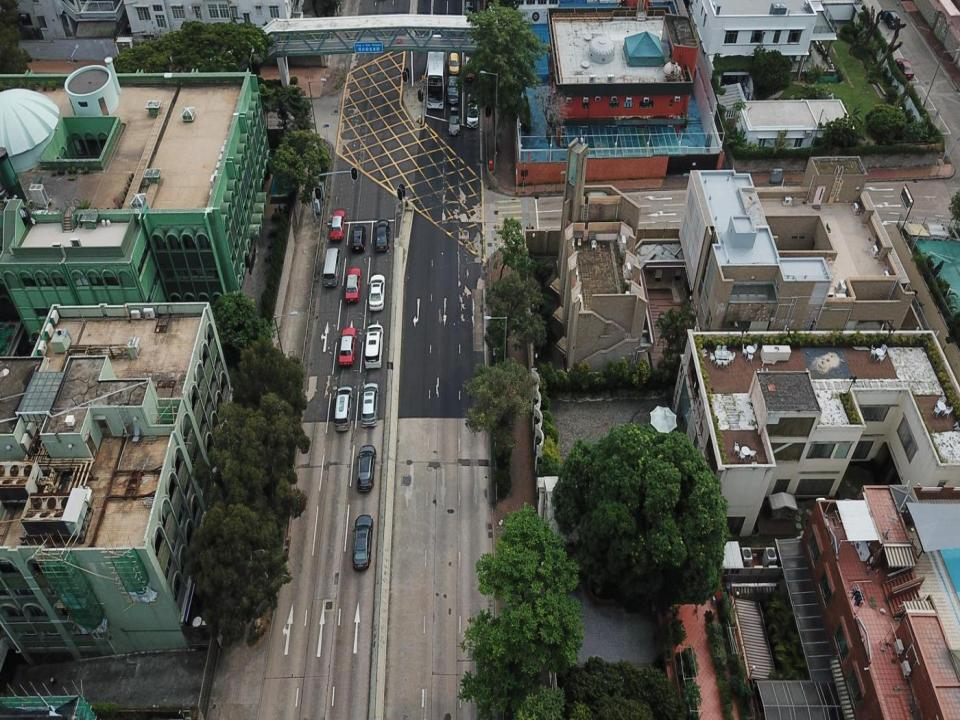bus: (428, 34, 444, 109)
car: (352, 514, 374, 570), (356, 445, 376, 492), (339, 326, 356, 365), (369, 275, 385, 311), (346, 268, 362, 301), (375, 220, 390, 252), (894, 58, 914, 82), (330, 210, 345, 240), (351, 224, 366, 251), (448, 107, 461, 134), (466, 102, 479, 127), (447, 77, 459, 104), (448, 52, 460, 76), (465, 56, 476, 80)
van: (334, 386, 353, 430), (360, 382, 378, 428), (365, 325, 383, 369), (324, 248, 340, 285), (882, 9, 900, 30)
